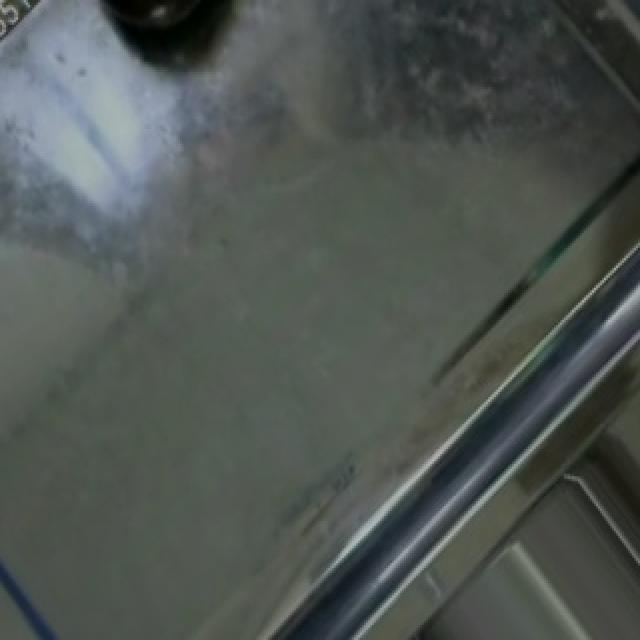Fruit: (88, 0, 242, 50)
